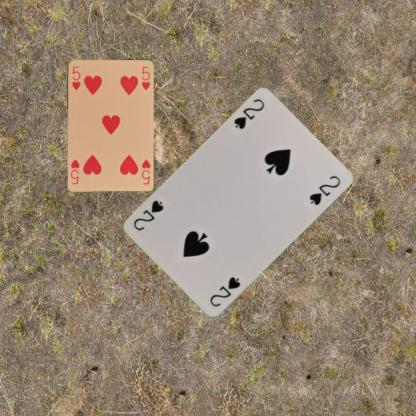2s: (231, 97, 266, 131), (207, 274, 241, 308)
5h: (140, 156, 152, 186), (70, 64, 82, 91)
